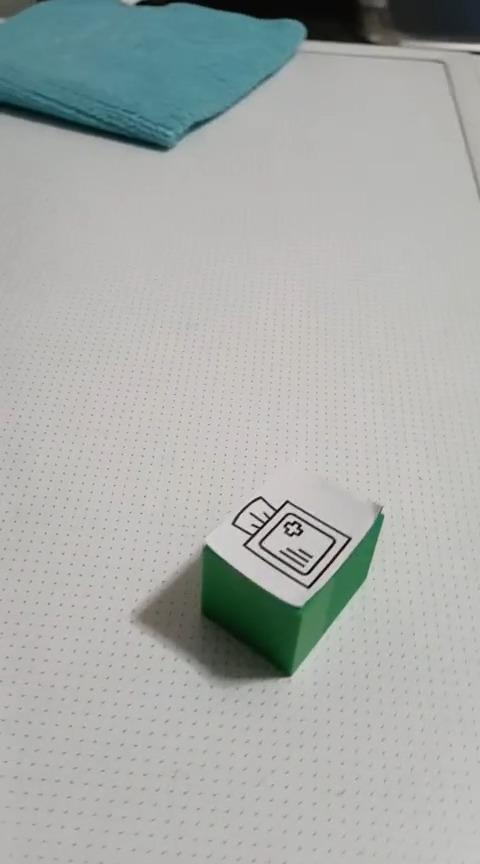Gauze: (198, 461, 384, 676)
